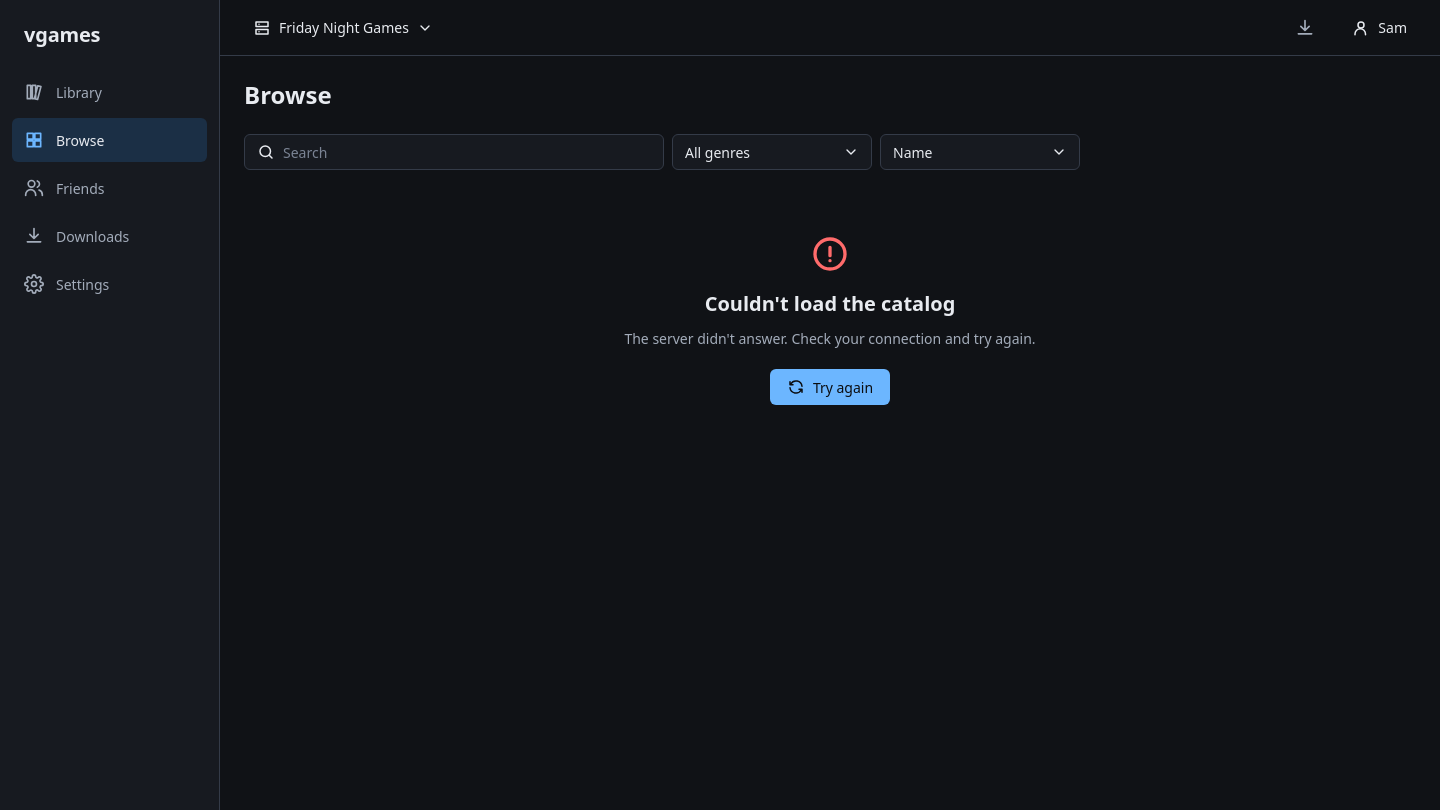
Test: browse › shows an error with a retry when the catalog cannot be loaded
Expected: the heading "Couldn't load the catalog" is shown, [705,291,955,316]
Click the button "Try again" at {"x": 830, "y": 387}, box [770,369,890,405]
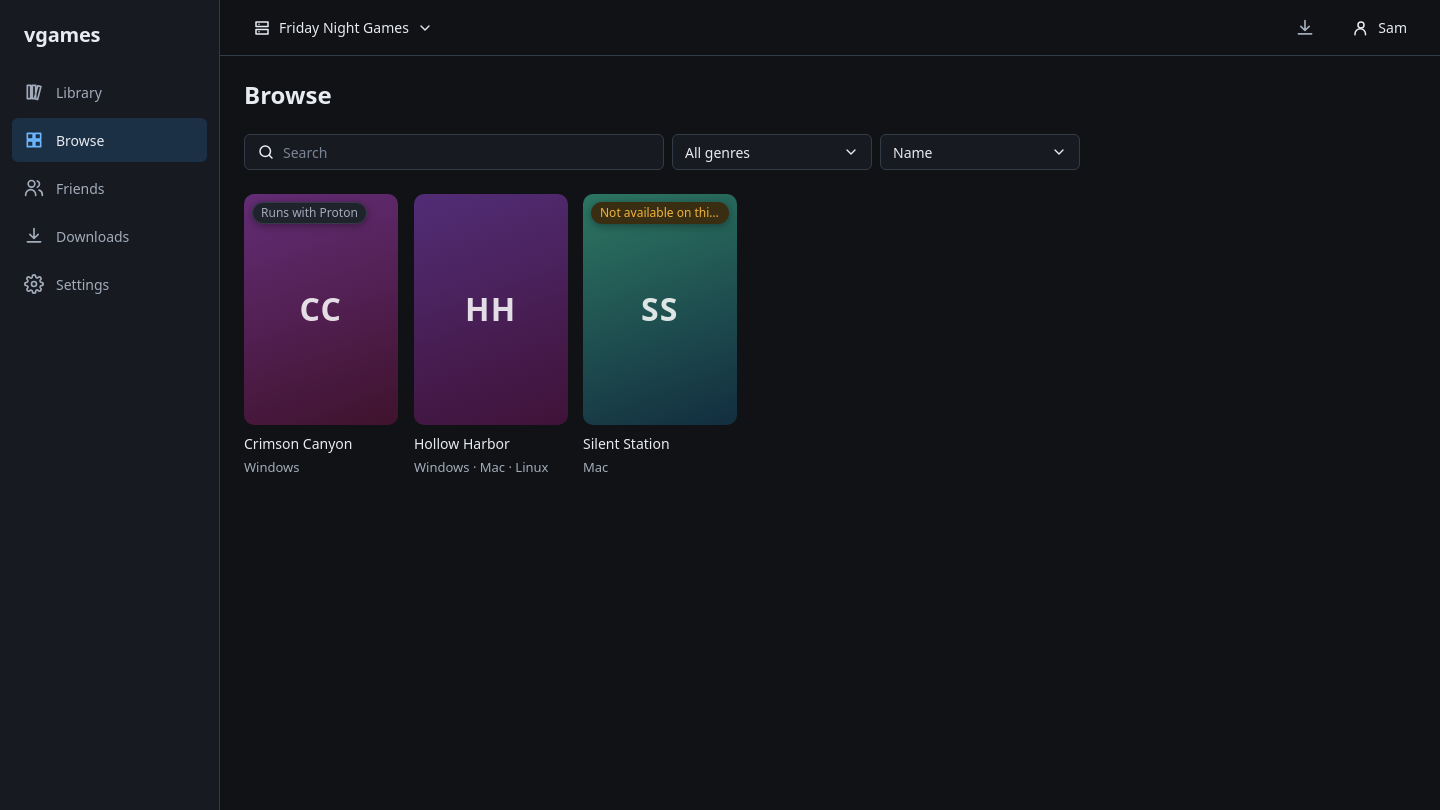
Expected: the link "HH Hollow Harbor Windows · Mac · Linux" is shown, [414,194,567,477]
